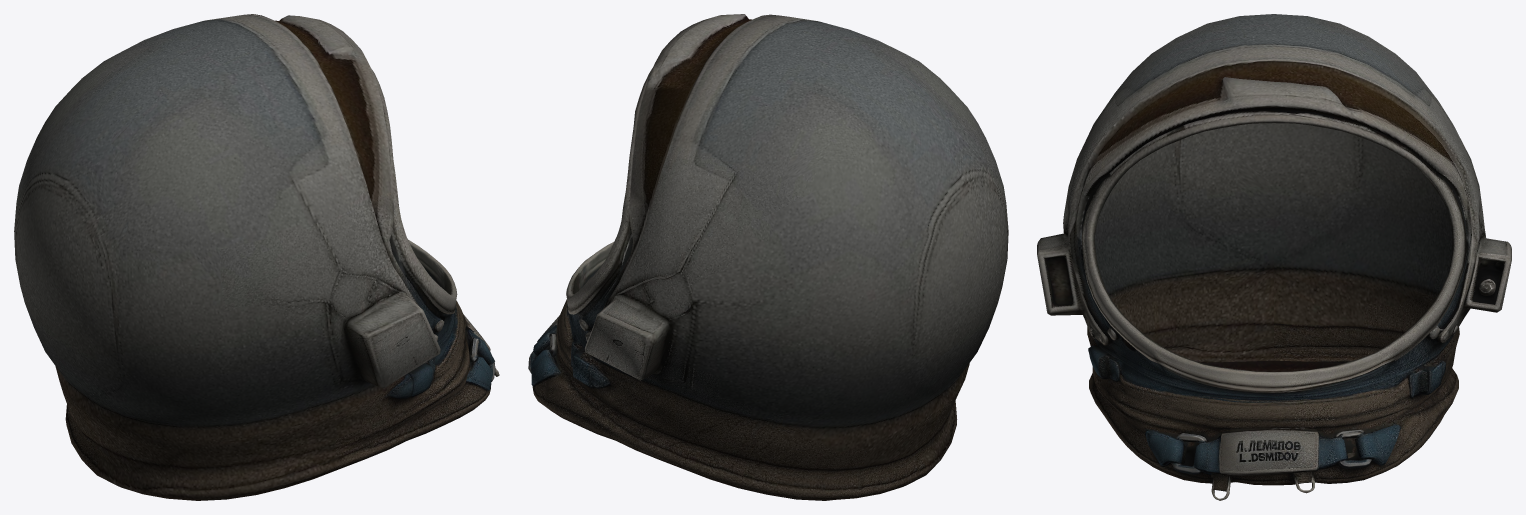
Rendered from gravity.glb.
The picture shows the model from 3 angles, left to right: view 1: azimuth 30°, elevation 25°; view 2: azimuth 150°, elevation 25°; view 3: azimuth 270°, elevation 25°; orthographic projection. The views are drawn at different scales.
Visible parts, largest first — view 1: tripo_node_a6353145-079e-4598-8123-61e6859b598e; view 2: tripo_node_a6353145-079e-4598-8123-61e6859b598e; view 3: tripo_node_a6353145-079e-4598-8123-61e6859b598e.
Part boxes in pixels (bbox=[...]): tripo_node_a6353145-079e-4598-8123-61e6859b598e: bbox=[14, 14, 499, 500]; tripo_node_a6353145-079e-4598-8123-61e6859b598e: bbox=[528, 14, 1008, 500]; tripo_node_a6353145-079e-4598-8123-61e6859b598e: bbox=[1037, 14, 1511, 500].
Size of the model in its own units: 0.998 by 0.9043 by 0.998.
1 material, 1 textured.
